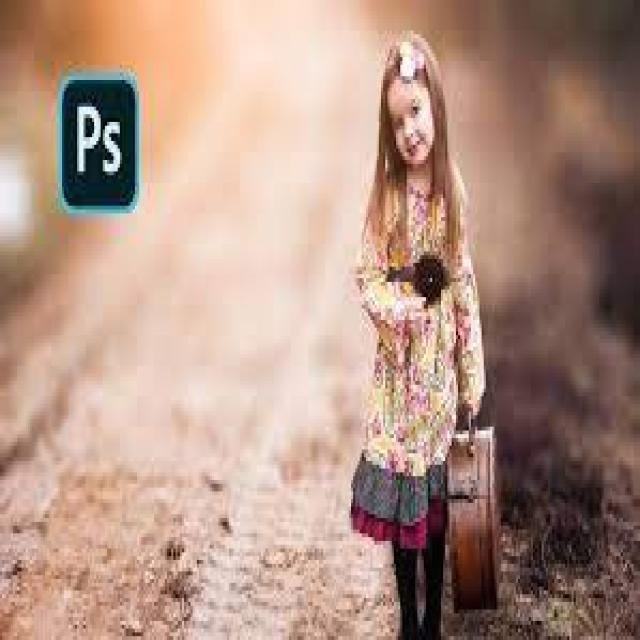Edited images: (342, 12, 509, 630)
